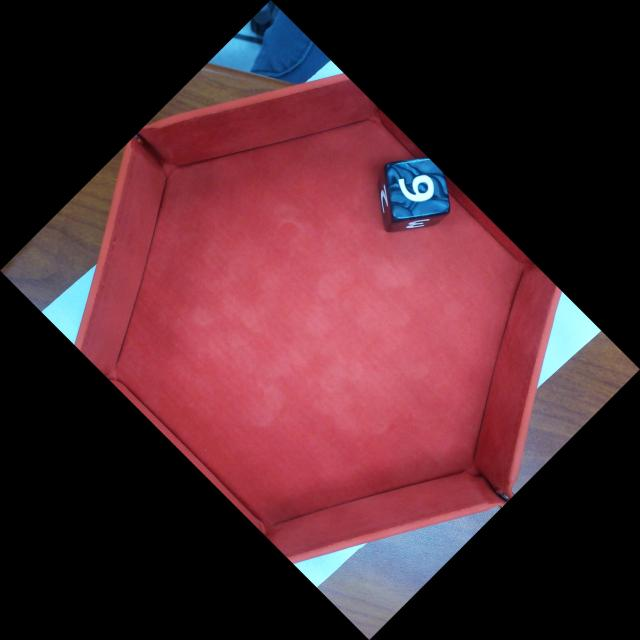dice: (385, 160, 451, 221)
